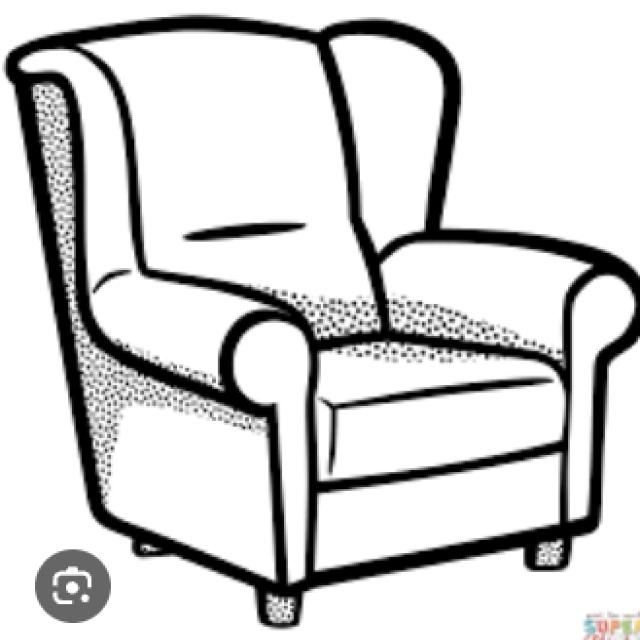Backrest: (64, 20, 387, 349)
Leg_Structure: (129, 527, 576, 629)
Seat: (305, 328, 572, 490)
Wing_Flange: (1, 31, 147, 295), (319, 20, 460, 267)
sofa_armrest: (52, 264, 317, 597), (371, 233, 638, 526)
